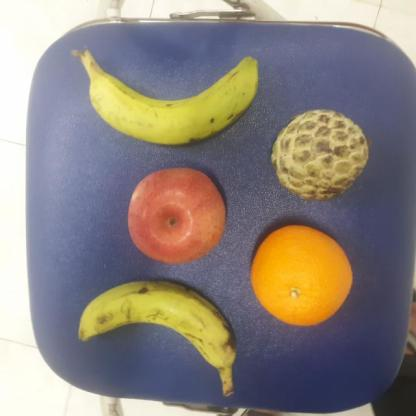annona: (267, 107, 371, 203)
apple: (125, 166, 227, 266)
banana: (84, 54, 259, 148), (78, 277, 239, 374)
orange: (249, 223, 353, 327)
